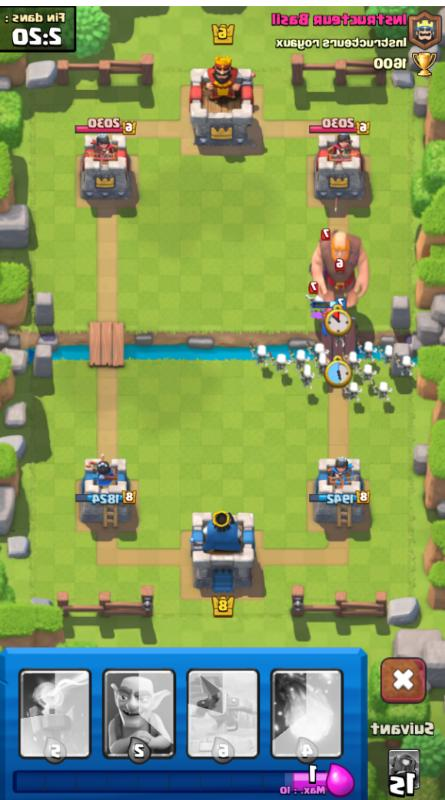geant: (309, 228, 379, 309)
squelette: (288, 364, 319, 397), (268, 347, 293, 382), (242, 341, 272, 370), (304, 339, 331, 365), (338, 382, 363, 408), (289, 344, 309, 374), (393, 353, 417, 378), (368, 381, 394, 403), (312, 353, 333, 379), (377, 342, 396, 366), (357, 363, 378, 384), (342, 349, 359, 372), (360, 341, 376, 359)
valkyrie: (311, 301, 348, 338)
